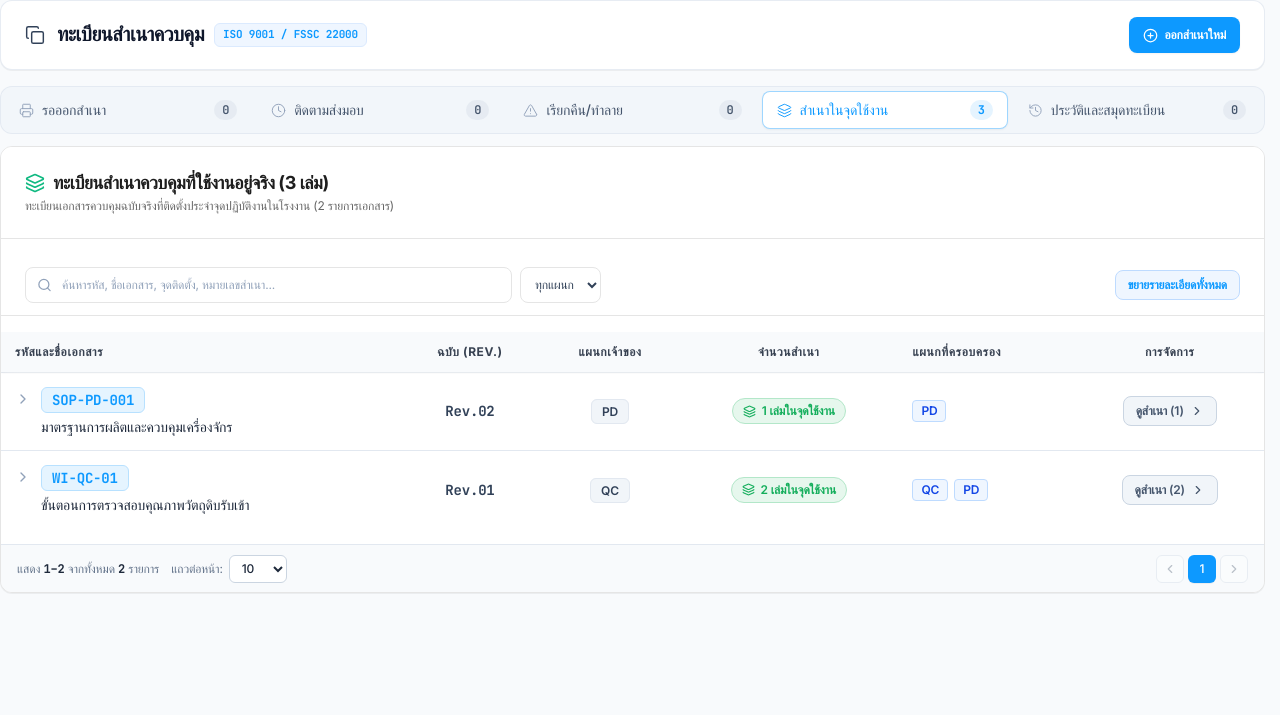
Test case: Controlled Copy Master-Detail Accordion & DocCode Resolution › 2. Master-Detail Accordion Table in Tab 4 › supports expand all and collapse all toggles
Note: Expand all
Click the button "ขยายรายละเอียดทั้งหมด": point(1177, 285) [1115, 270, 1240, 300]
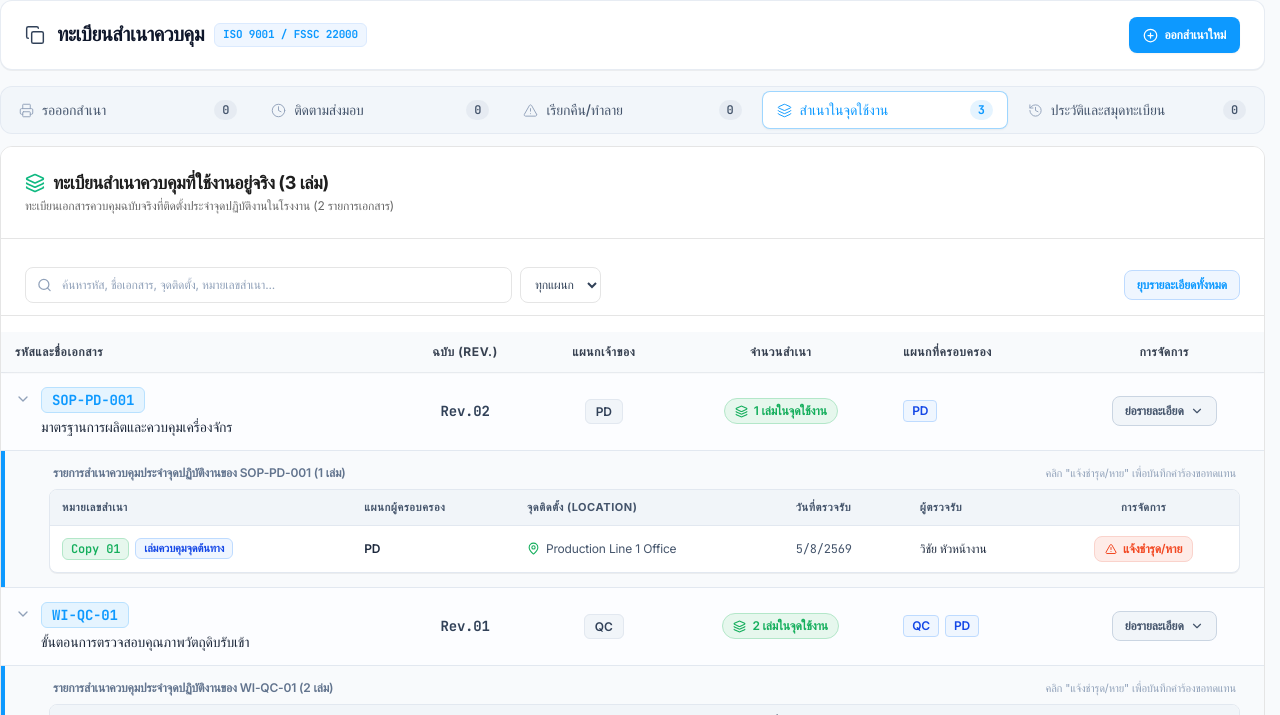
Expected: the text "Production Line 1 Office" is shown, [546, 541, 676, 557]
Expected: the button "ยุบรายละเอียดทั้งหมด" is shown
Click the button "ยุบรายละเอียดทั้งหมด": point(1182, 285) [1124, 270, 1240, 300]
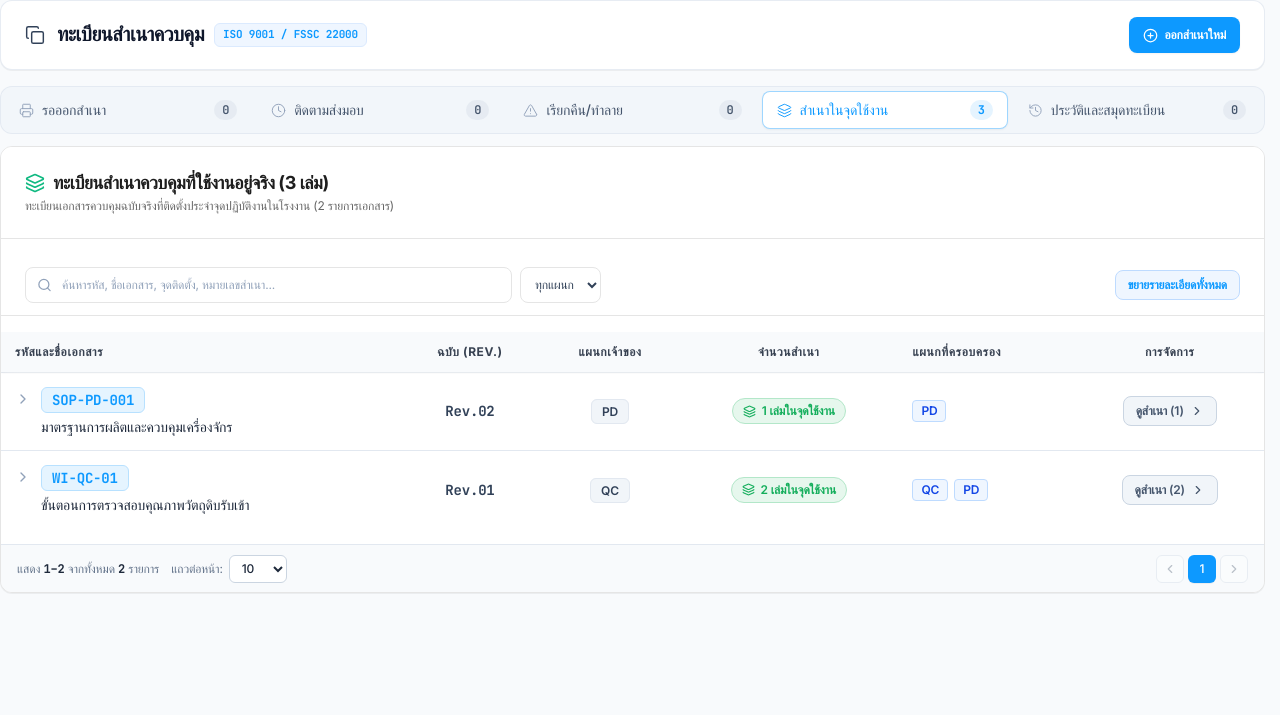
Expected: the text "Production Line 1 Office" is gone
